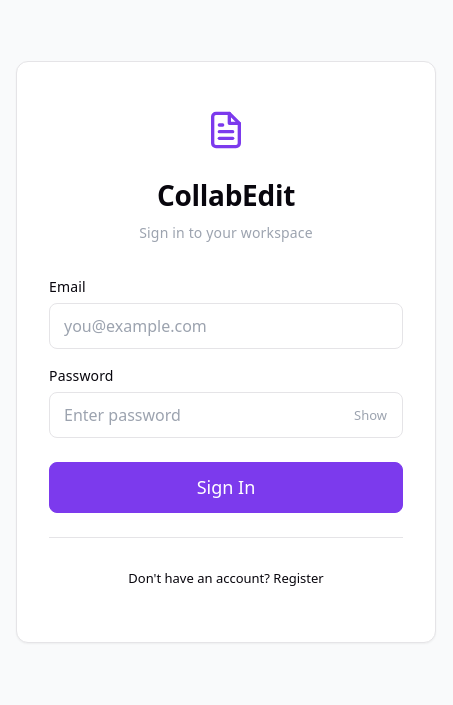
LoginPage › toggles to register mode and shows the display name field
Click the button "Don't have an account? Register": [226, 578] box left=115, top=562, right=337, bottom=594
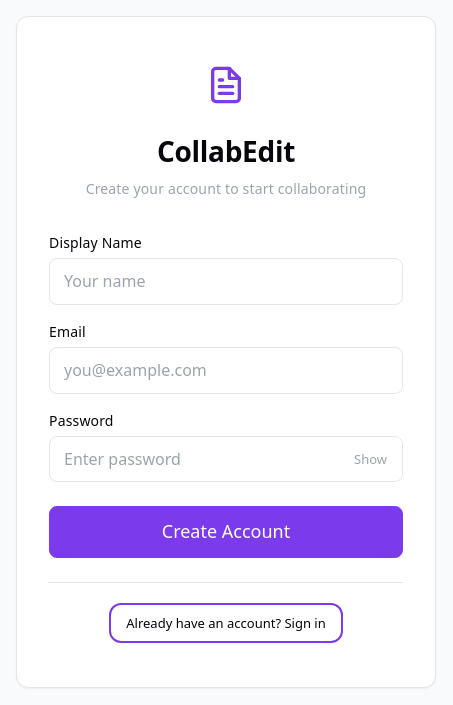
Now the button "Create Account" is shown, box left=49, top=506, right=403, bottom=558
Now the field labelled "Display Name" is shown, box left=49, top=258, right=403, bottom=305
